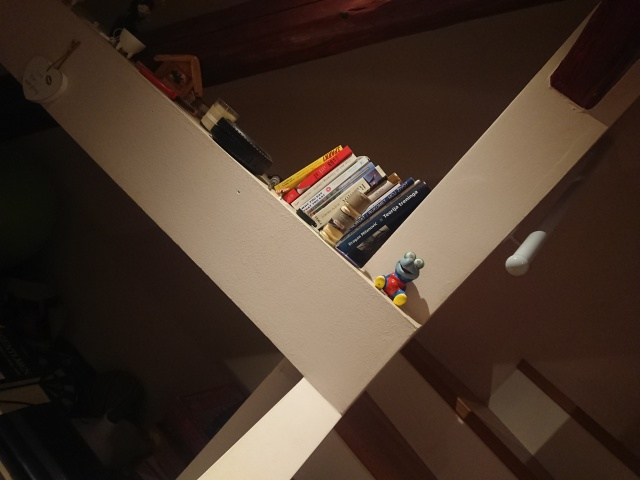Kotanyi Garlic Granules 70g: (317, 187, 374, 249)
